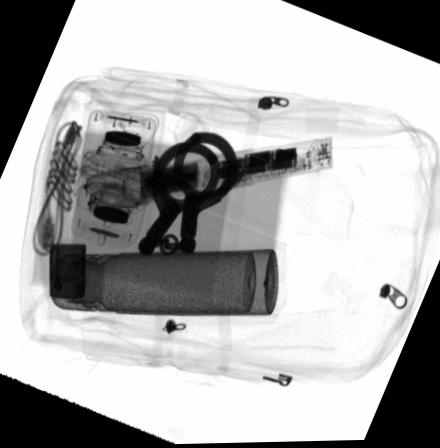Baton: (84, 137, 334, 216)
HandCuffs: (138, 134, 239, 256)
Lighter: (49, 243, 86, 300)
